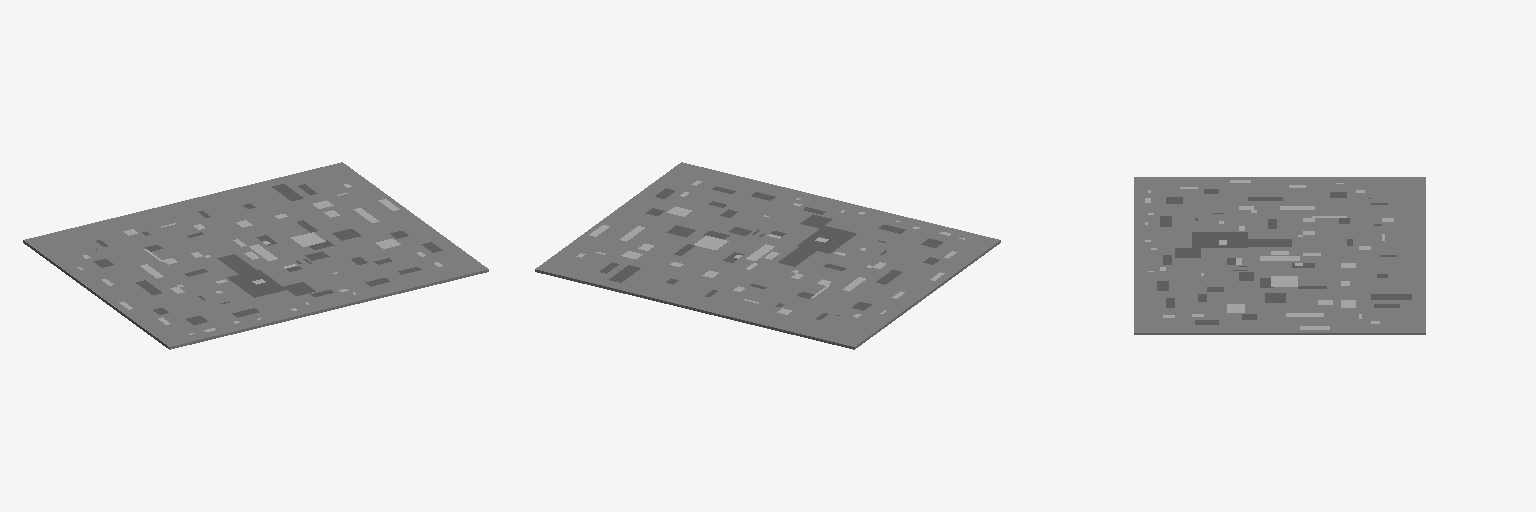
3 renders of one model, left to right at view 1: azimuth 30°, elevation 25°; view 2: azimuth 150°, elevation 25°; view 3: azimuth 270°, elevation 25°, orthographic.
Visible parts, largest first — view 1: object 1; view 2: object 1; view 3: object 1.
Part boxes in pixels (left/top/right/bottom): object 1: left=23, top=162, right=488, bottom=349; object 1: left=535, top=162, right=1000, bottom=349; object 1: left=1134, top=177, right=1425, bottom=334.
Size of the model in its own units: 12.6 by 0.1 by 10.
Materials: 1 (1 with a texture image).